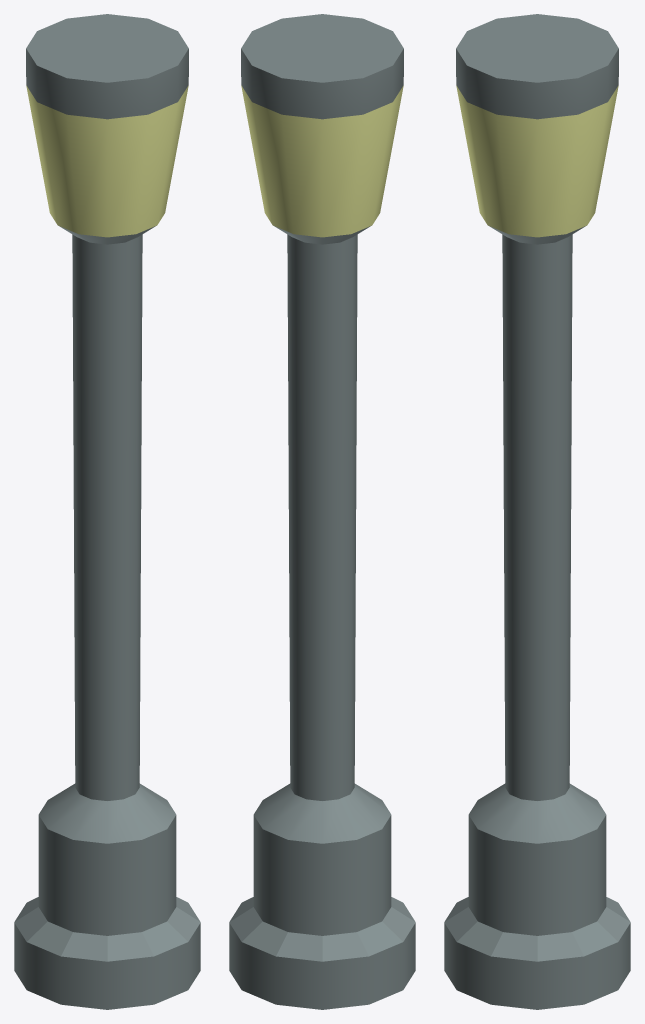
The model's file is lantern01_s01.FBX.
3 views of the same model, side by side, from view 1: azimuth 30°, elevation 25°; view 2: azimuth 150°, elevation 25°; view 3: azimuth 270°, elevation 25° (orthographic).
Visible parts, largest first — view 1: lantern01_s01; view 2: lantern01_s01; view 3: lantern01_s01.
Part boxes in pixels (<box>): lantern01_s01: <box>14,14,200,1009</box>; lantern01_s01: <box>229,14,415,1009</box>; lantern01_s01: <box>444,14,630,1009</box>.
Size of the model in its own units: 74.17 by 74.17 by 404.
1 material, 1 textured.
